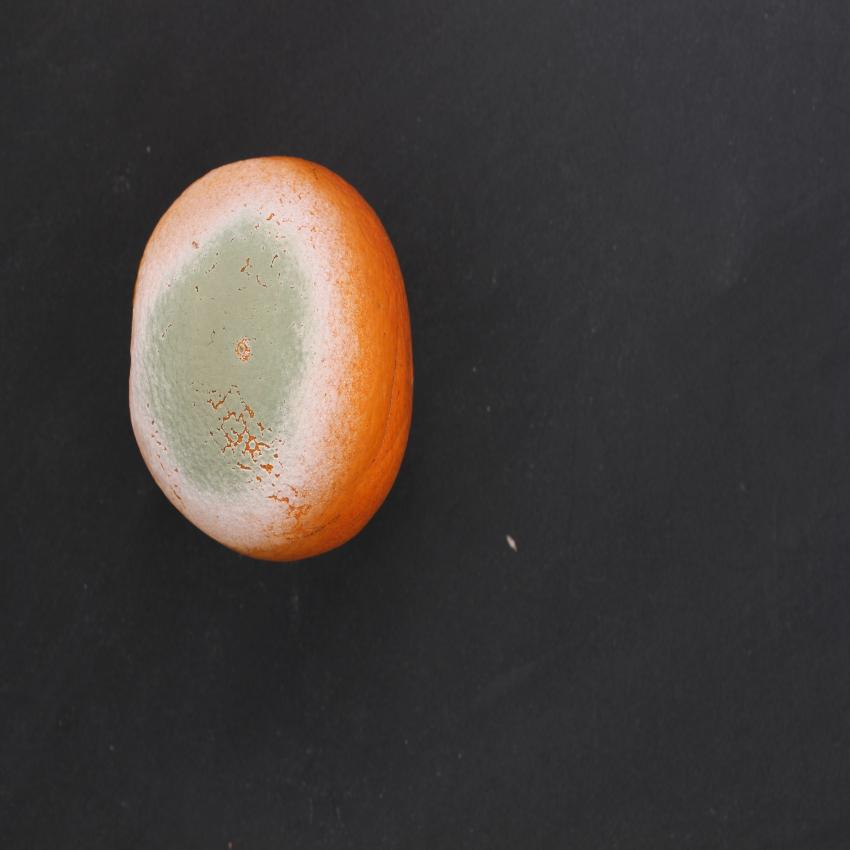Mal estado: (121, 135, 425, 572)
